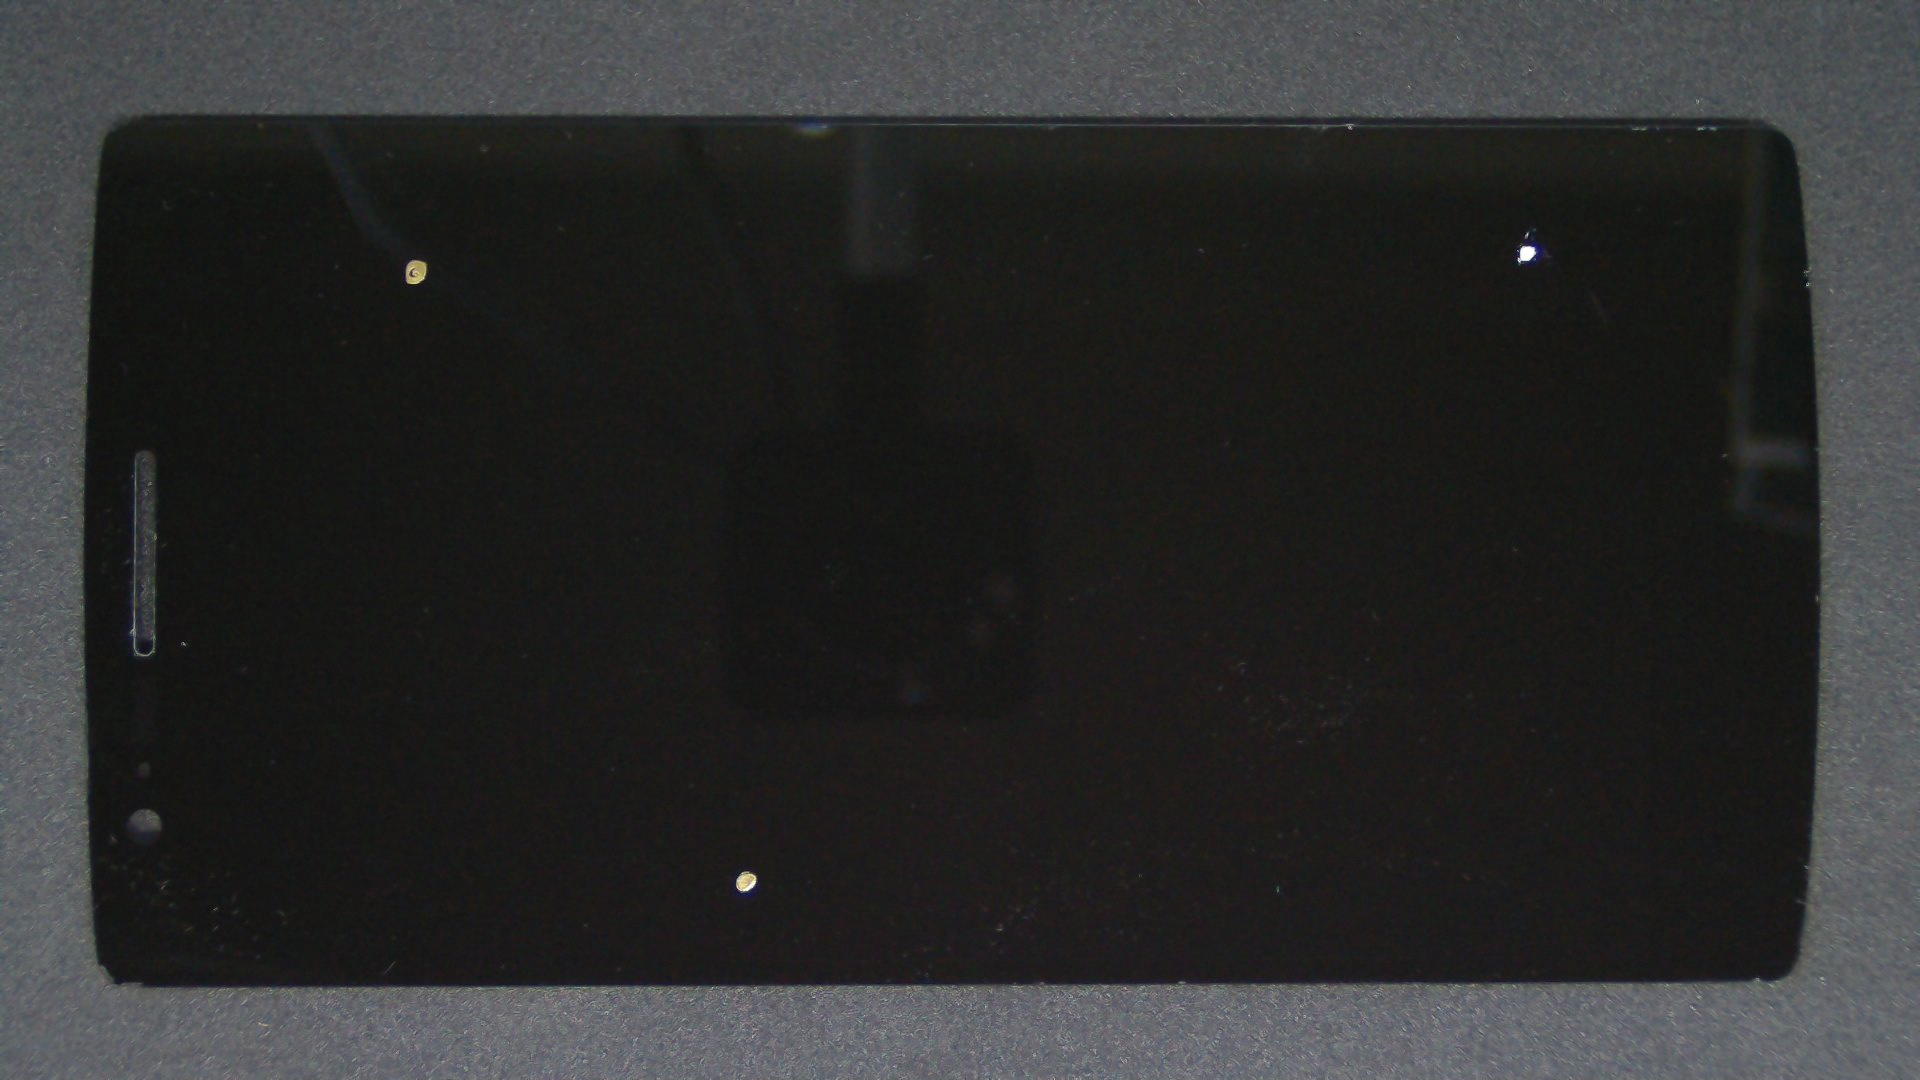oil: (372, 434, 1113, 1080), (761, 121, 1920, 365), (767, 112, 1920, 343), (207, 129, 618, 389)
